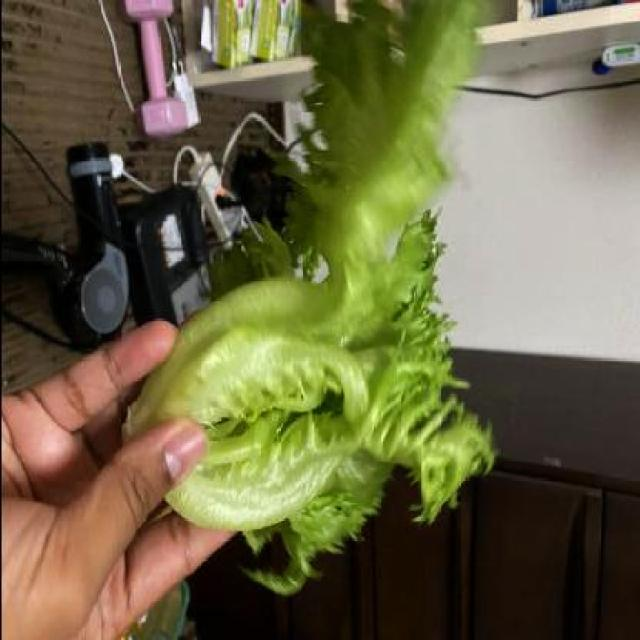Lettuce: (112, 0, 505, 597)
